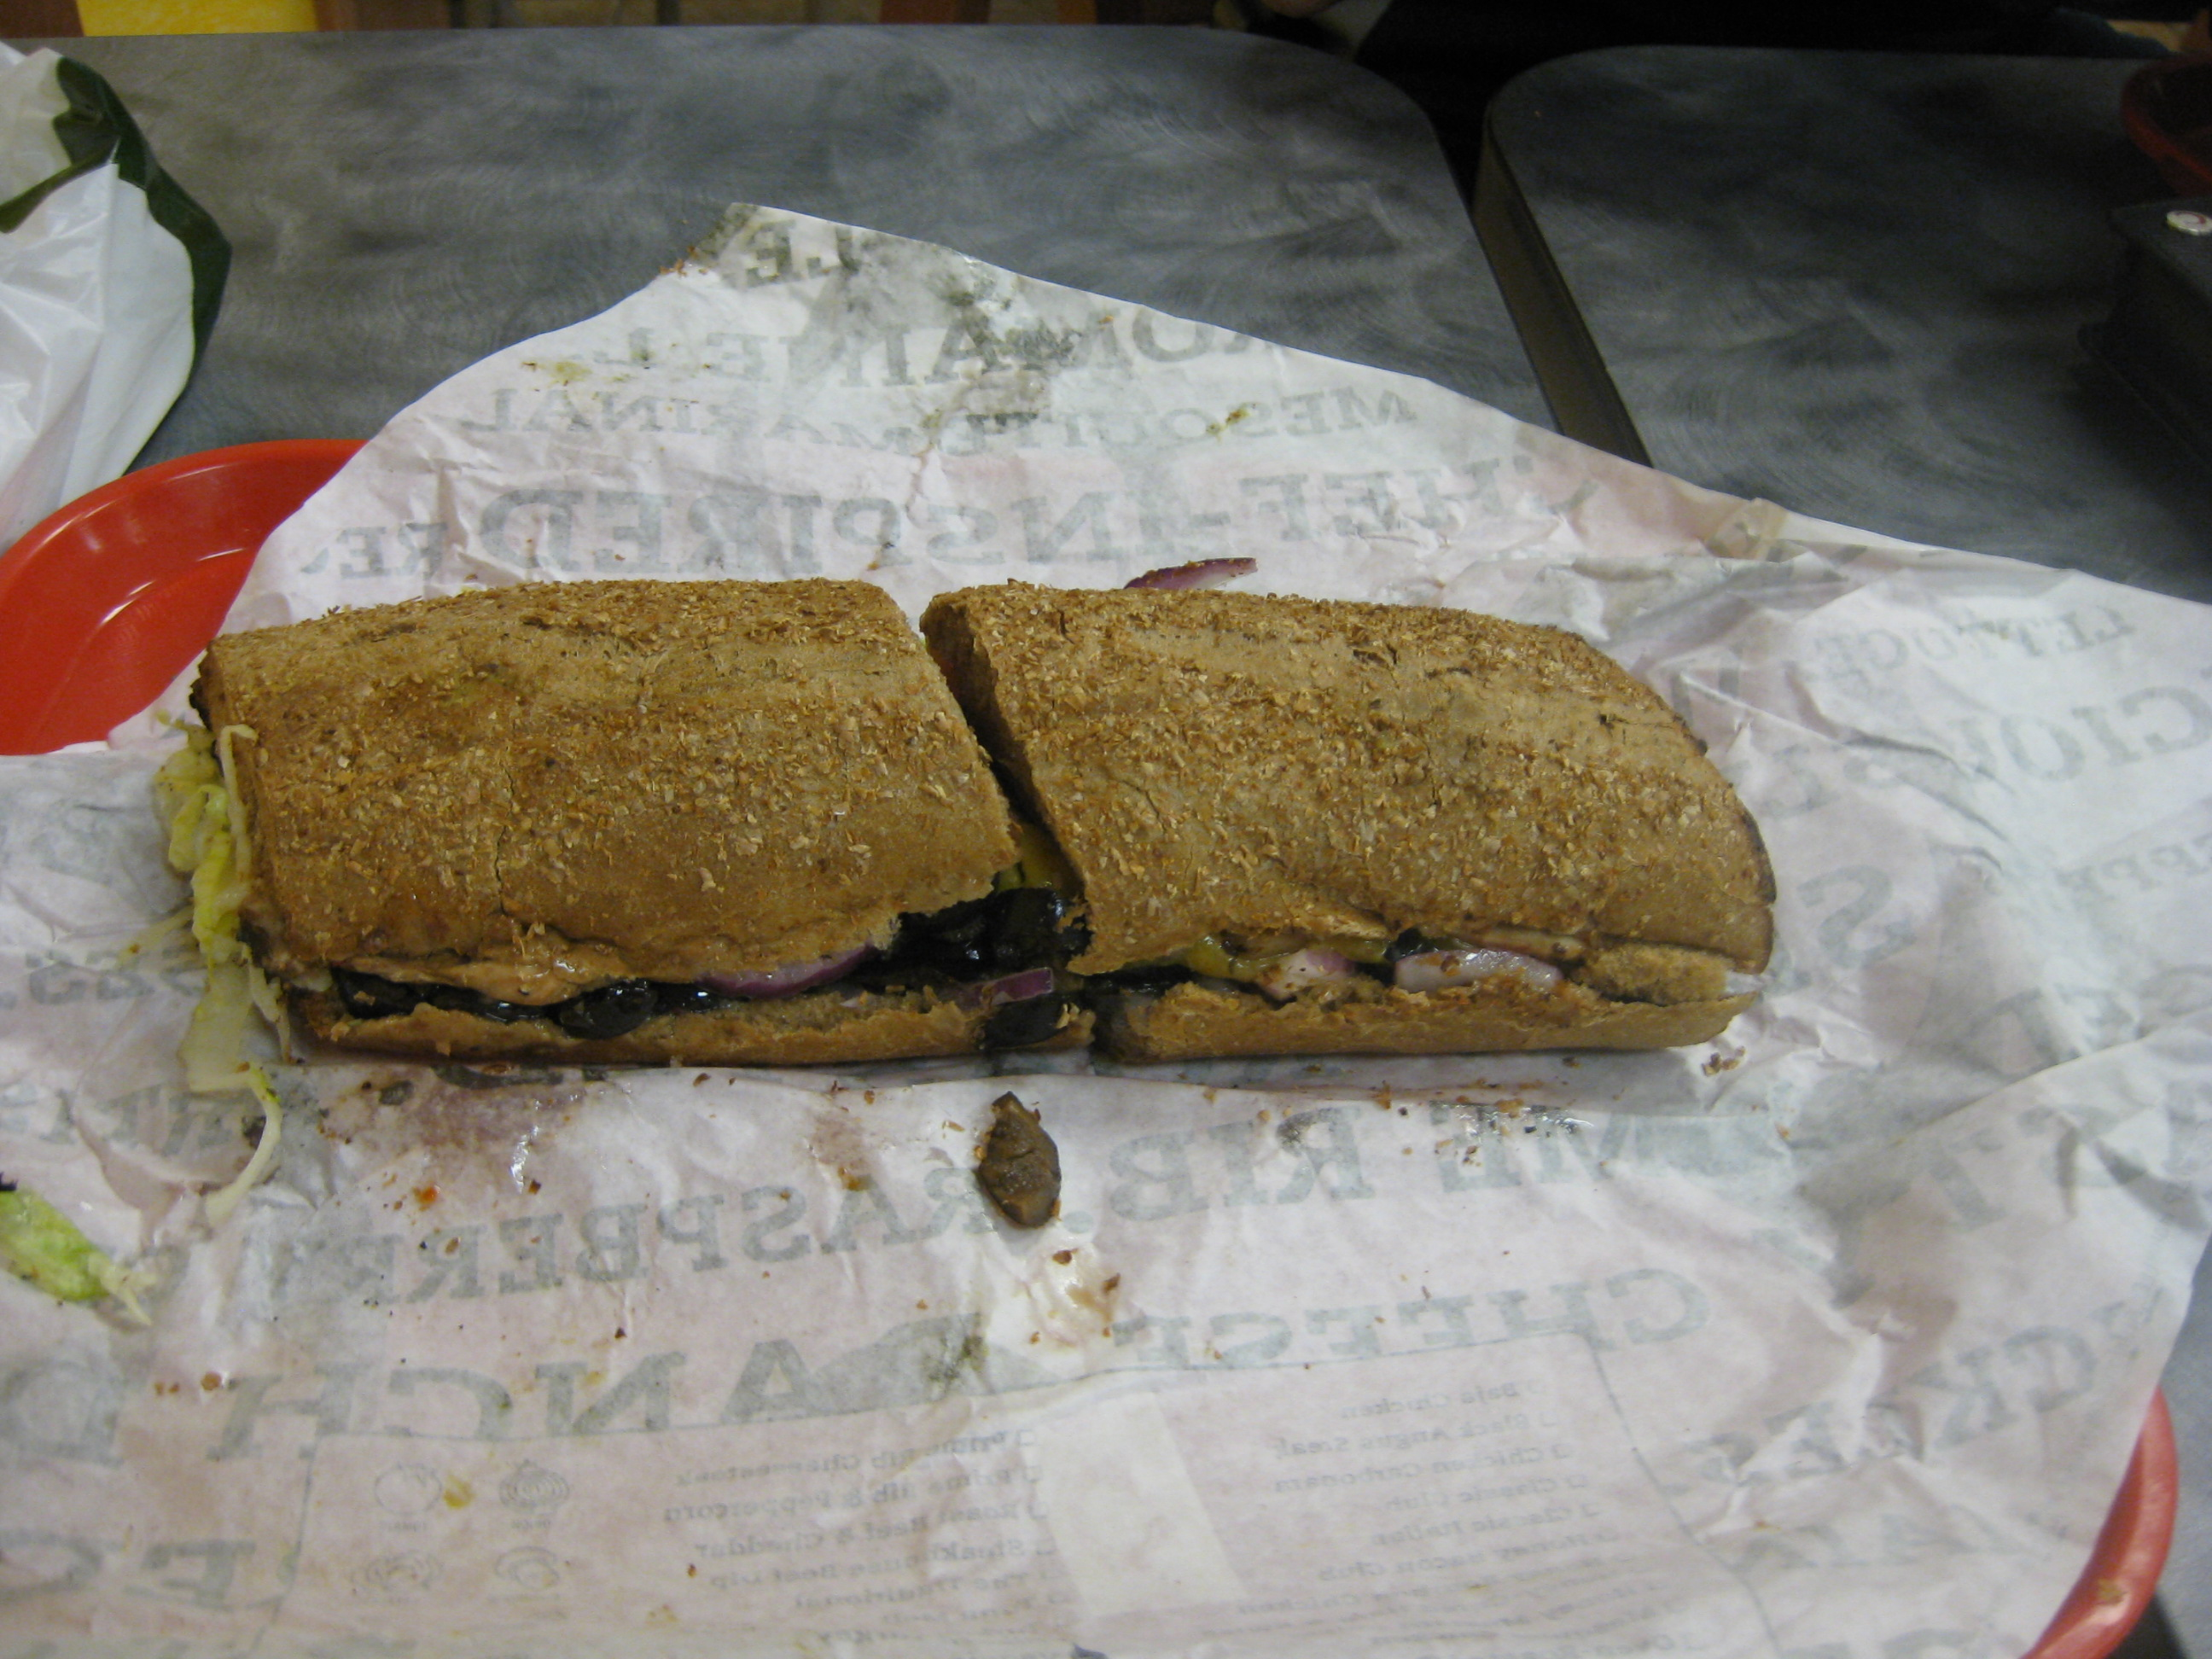sub: (123, 527, 1813, 1141)
